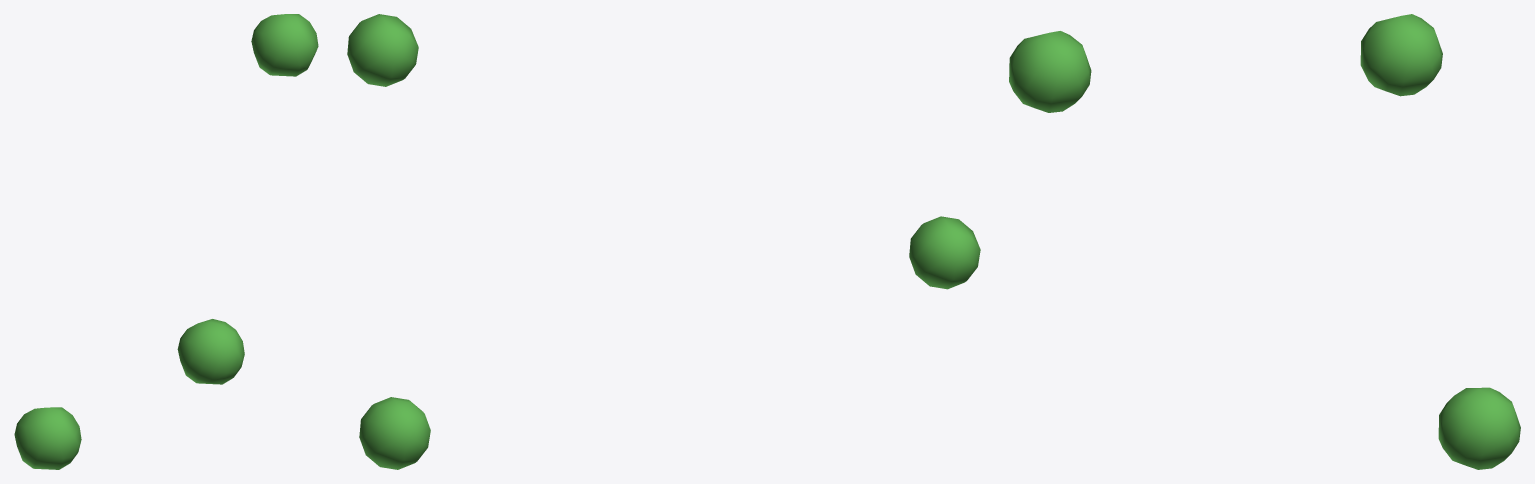
The model's file is linfatico-mandibular-node-l.glb.
3 views of the same model, side by side, from view 1: azimuth 30°, elevation 25°; view 2: azimuth 150°, elevation 25°; view 3: azimuth 270°, elevation 25° (orthographic). The views are drawn at different scales.
Visible parts, largest first — view 1: Mandibular node.l; view 2: Mandibular node.l; view 3: Mandibular node.l.
Boxes of the visible parts, box(x1,y1,x2,y2) form: Mandibular node.l: box(14, 14, 318, 469); Mandibular node.l: box(347, 14, 980, 469); Mandibular node.l: box(1009, 14, 1520, 469).
Bounding box in the file's own units: 0.0193 × 0.0161 × 0.0157.
